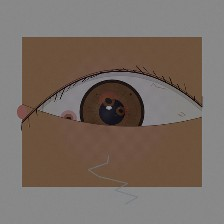foreign_body_visible: (109, 102, 132, 120)
